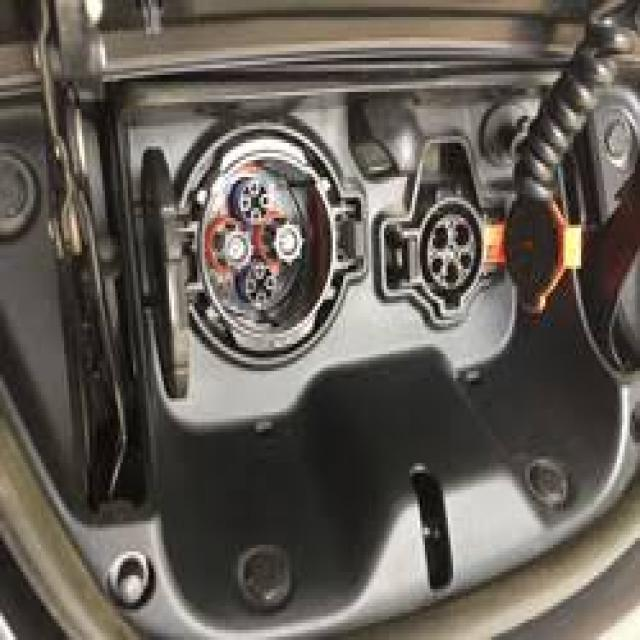CHAdeMO: (180, 143, 356, 362)
